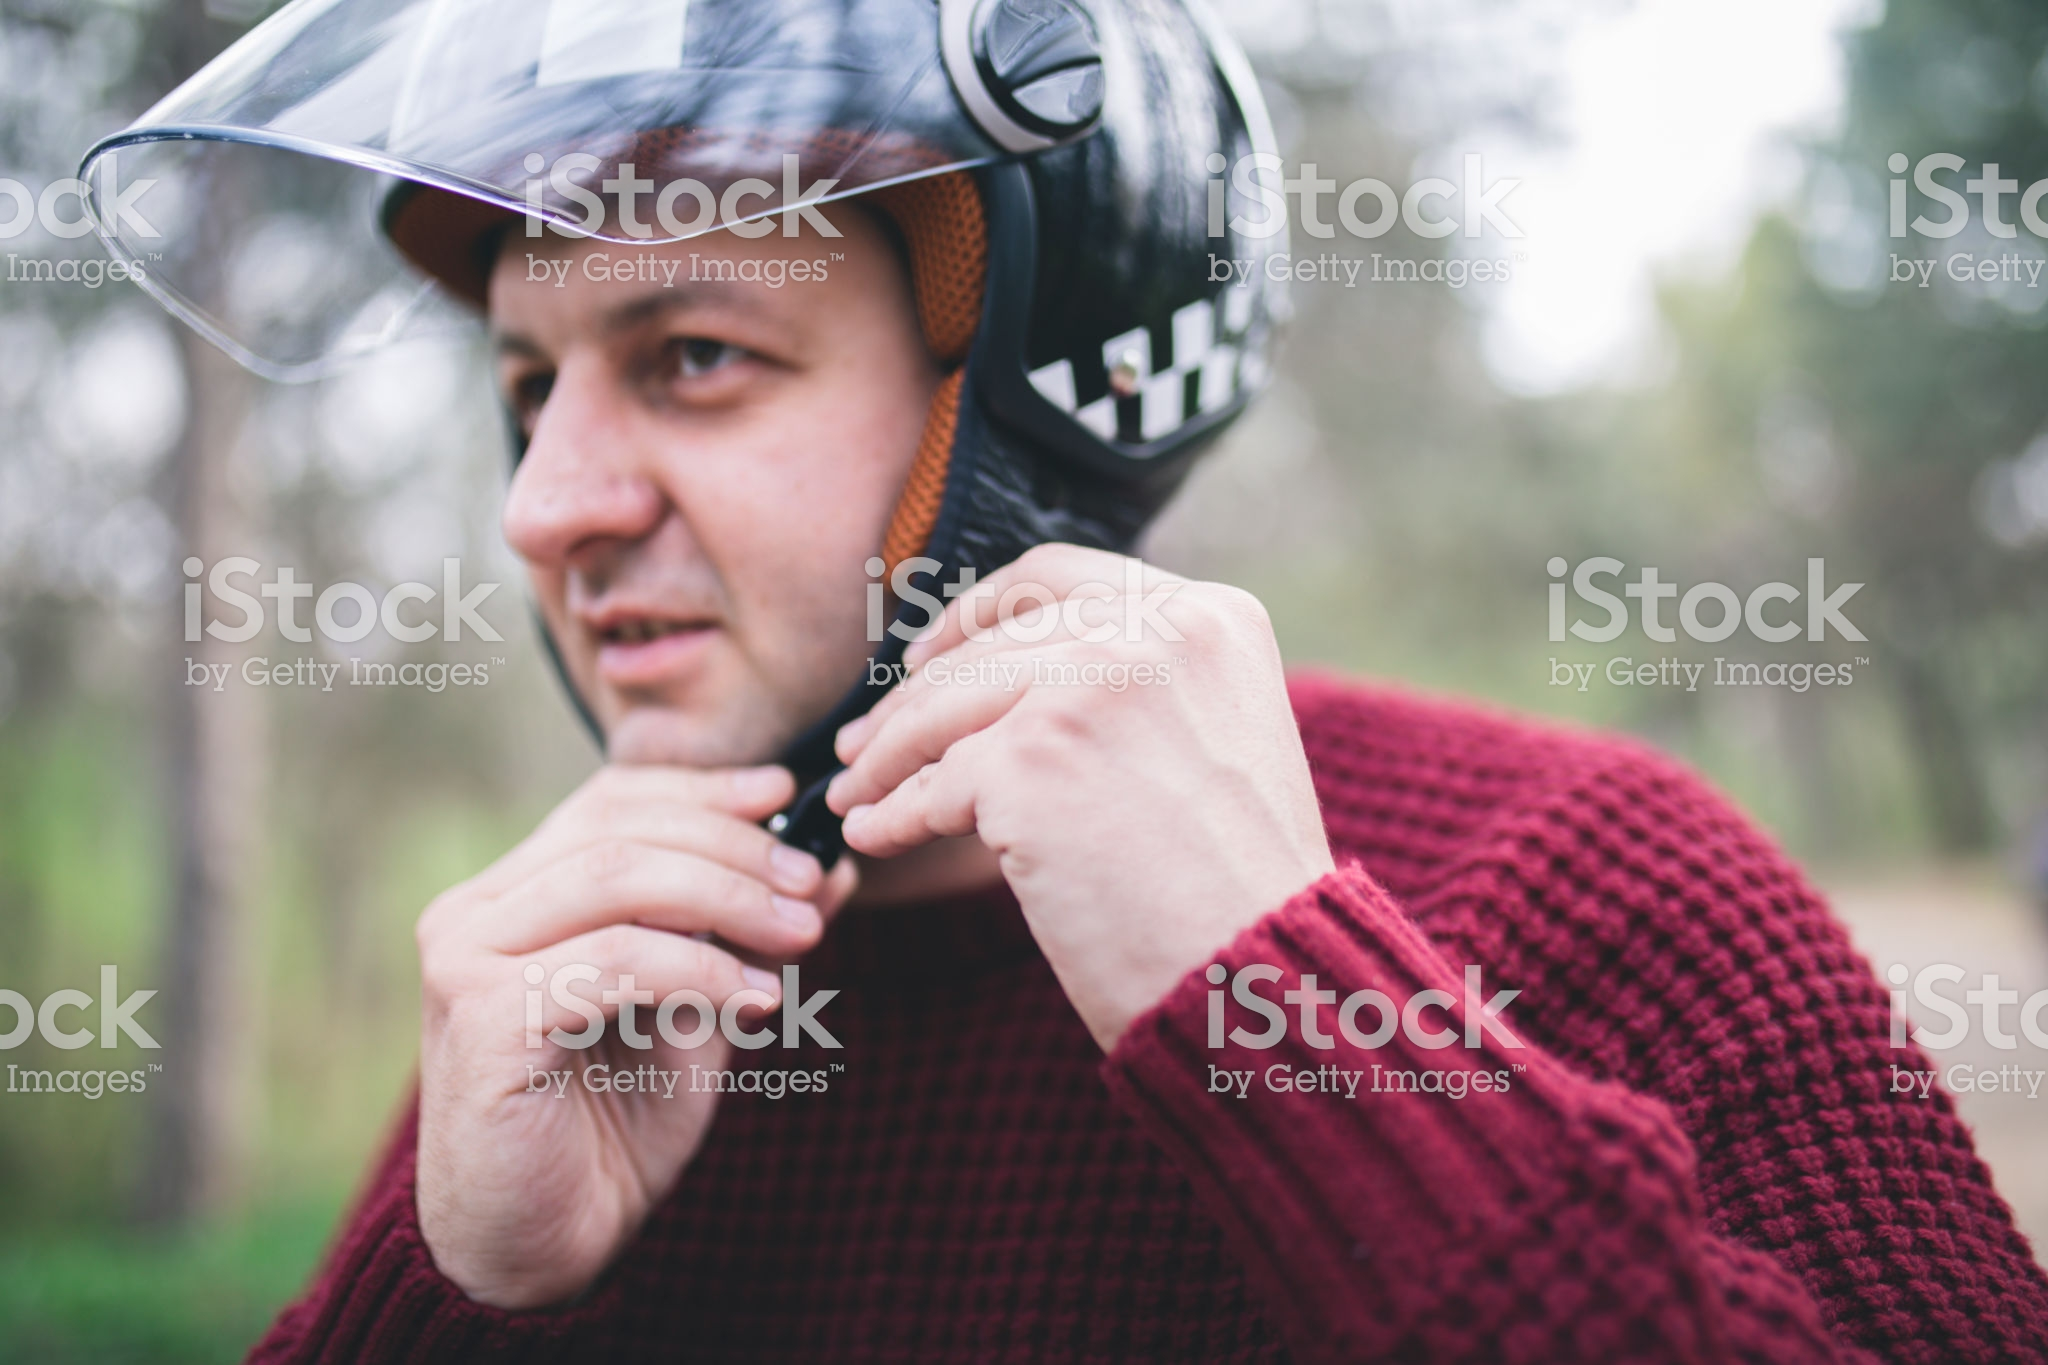helmet: (225, 14, 1335, 529)
